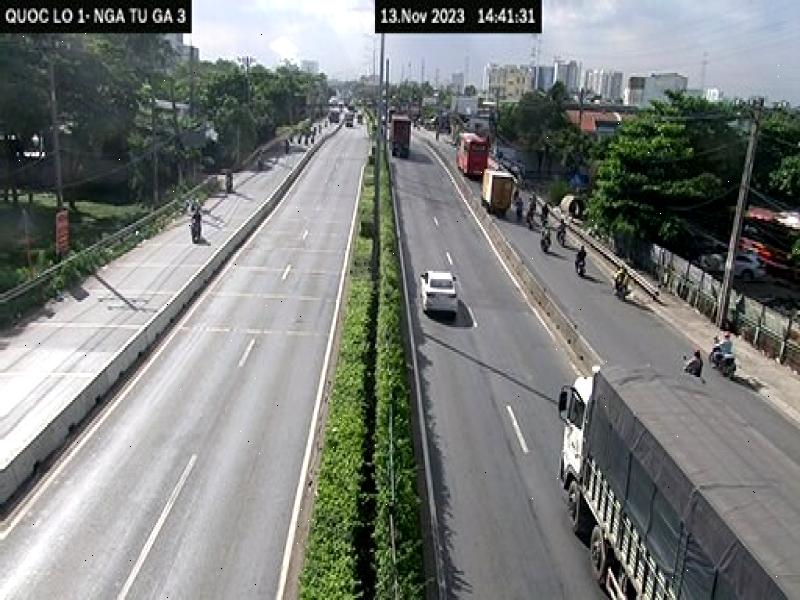truck: (556, 359, 800, 600)
